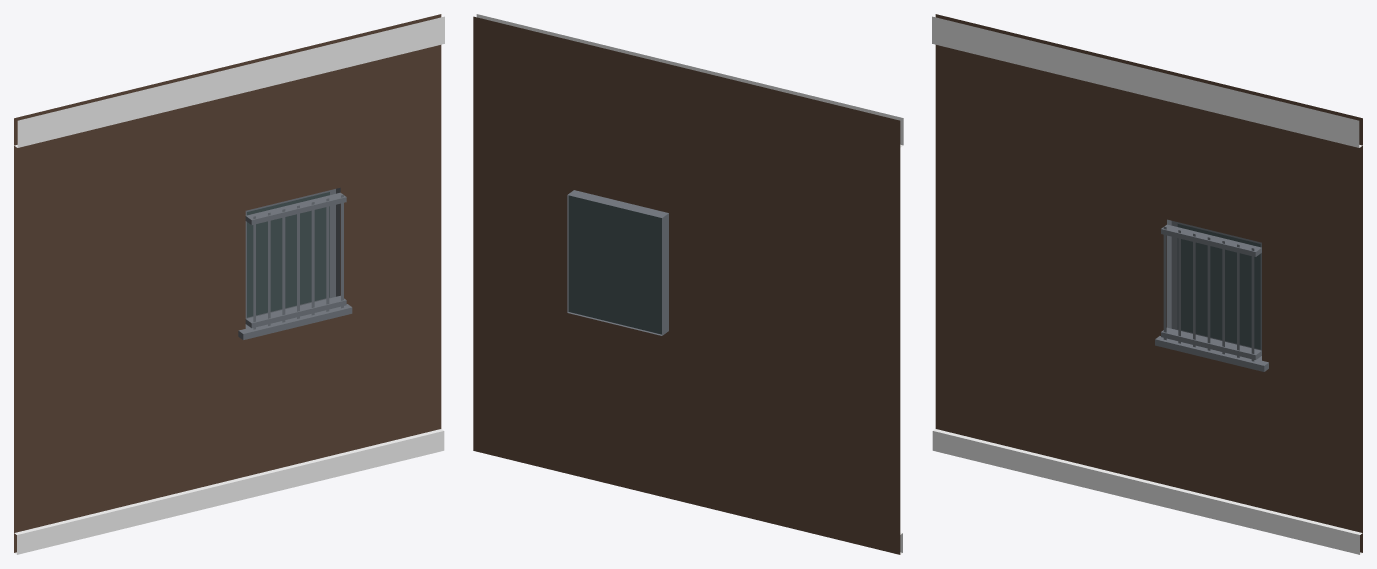
Rendered from top-w2.fbx.
3 renders of one model, left to right at view 1: azimuth 30°, elevation 25°; view 2: azimuth 150°, elevation 25°; view 3: azimuth 330°, elevation 25°, orthographic.
Visible parts, largest first — view 1: a2000s3/800/top-w2; view 2: a2000s3/800/top-w2; view 3: a2000s3/800/top-w2.
Boxes of the visible parts, bbox=[...] form: a2000s3/800/top-w2: bbox=[14, 14, 444, 554]; a2000s3/800/top-w2: bbox=[473, 14, 903, 554]; a2000s3/800/top-w2: bbox=[932, 14, 1362, 554].
Bounding box in the file's own units: 3.6 × 3.5 × 0.19.
